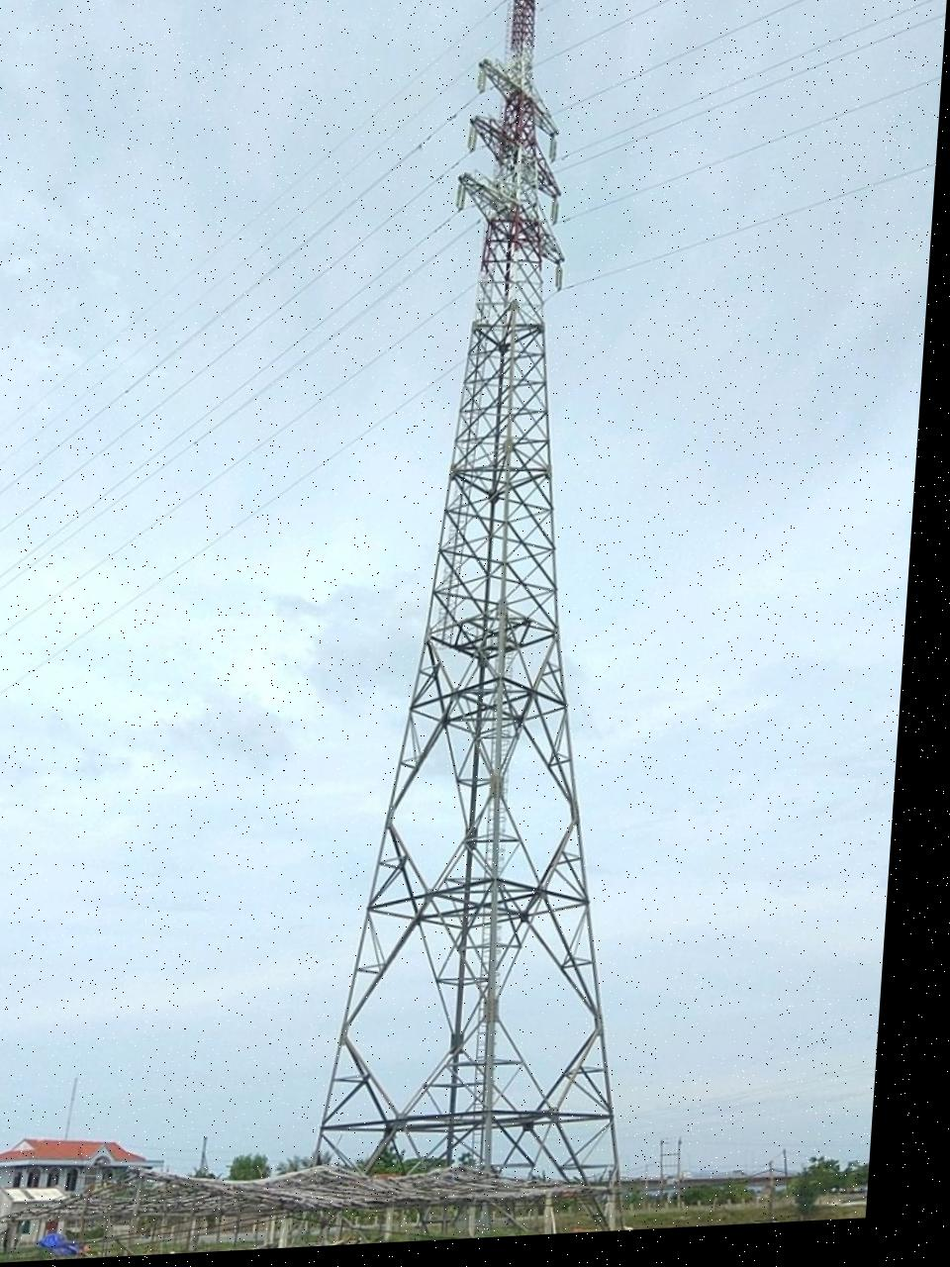tower: (268, 0, 735, 1249)
